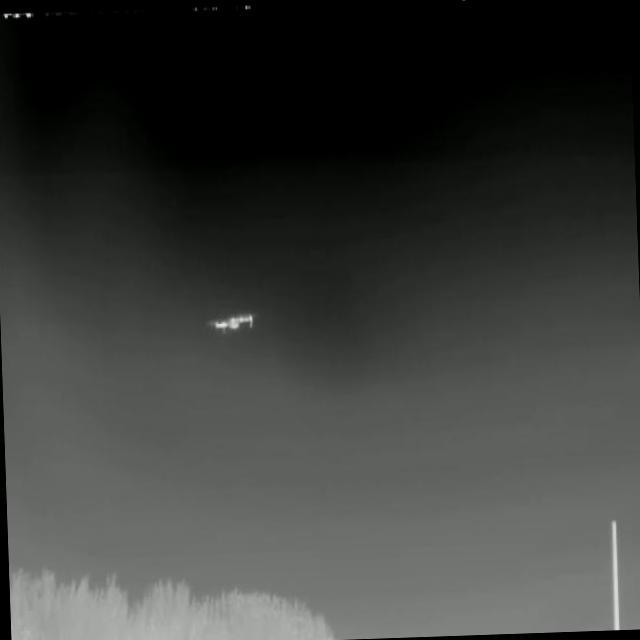DRONE: (198, 302, 265, 350)
